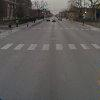Crosswalk: (5, 32, 100, 70)
